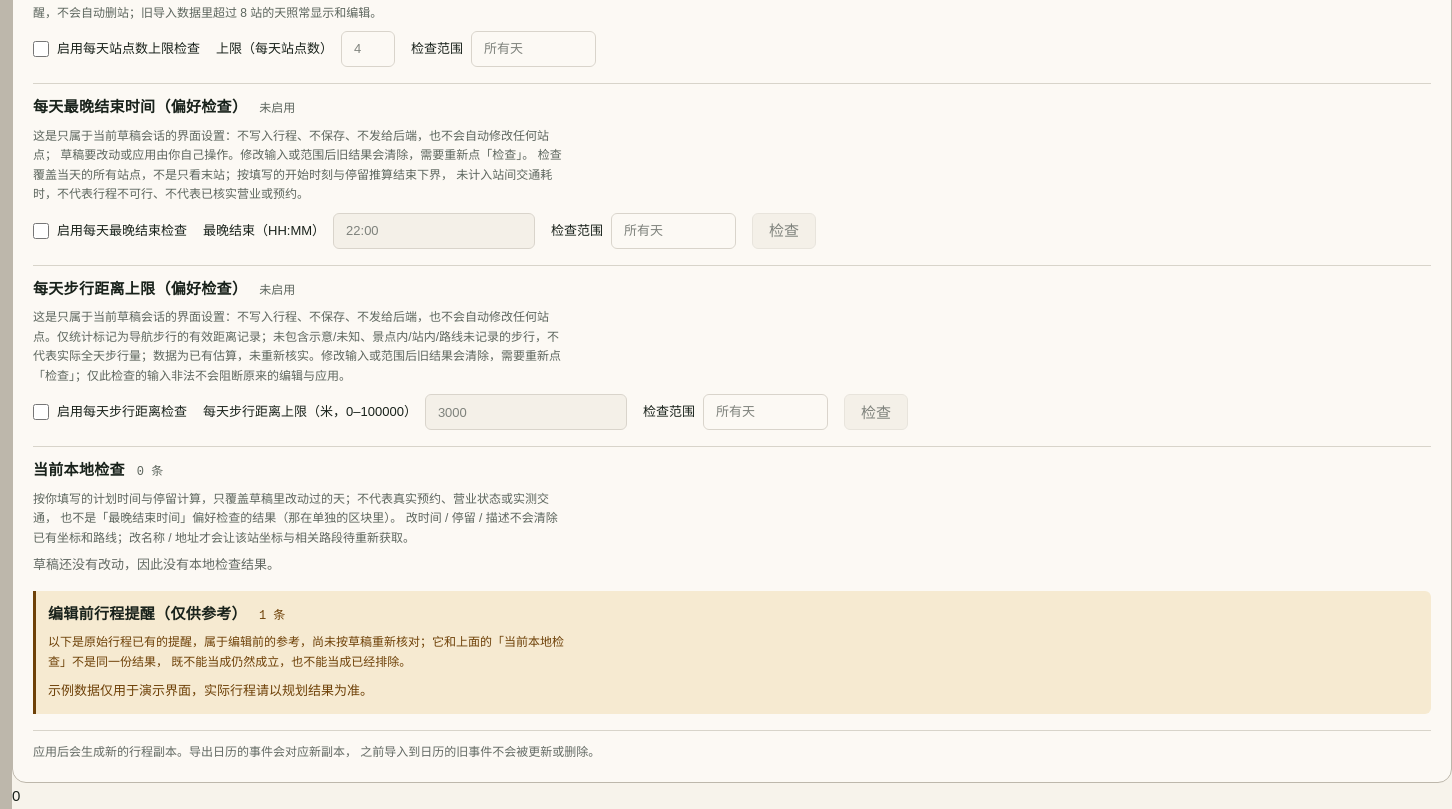
Test: 每天步行距离上限偏好：默认状态与显式检查 › 启用后显式检查：按夹具第 1 天 walking navigation 1100 米出「未发现超限」并含固定口径
(page scrolled)
Click the checkbox labelled "启用每天步行距离检查". click: click(41, 412)
box: [33, 404, 49, 420]
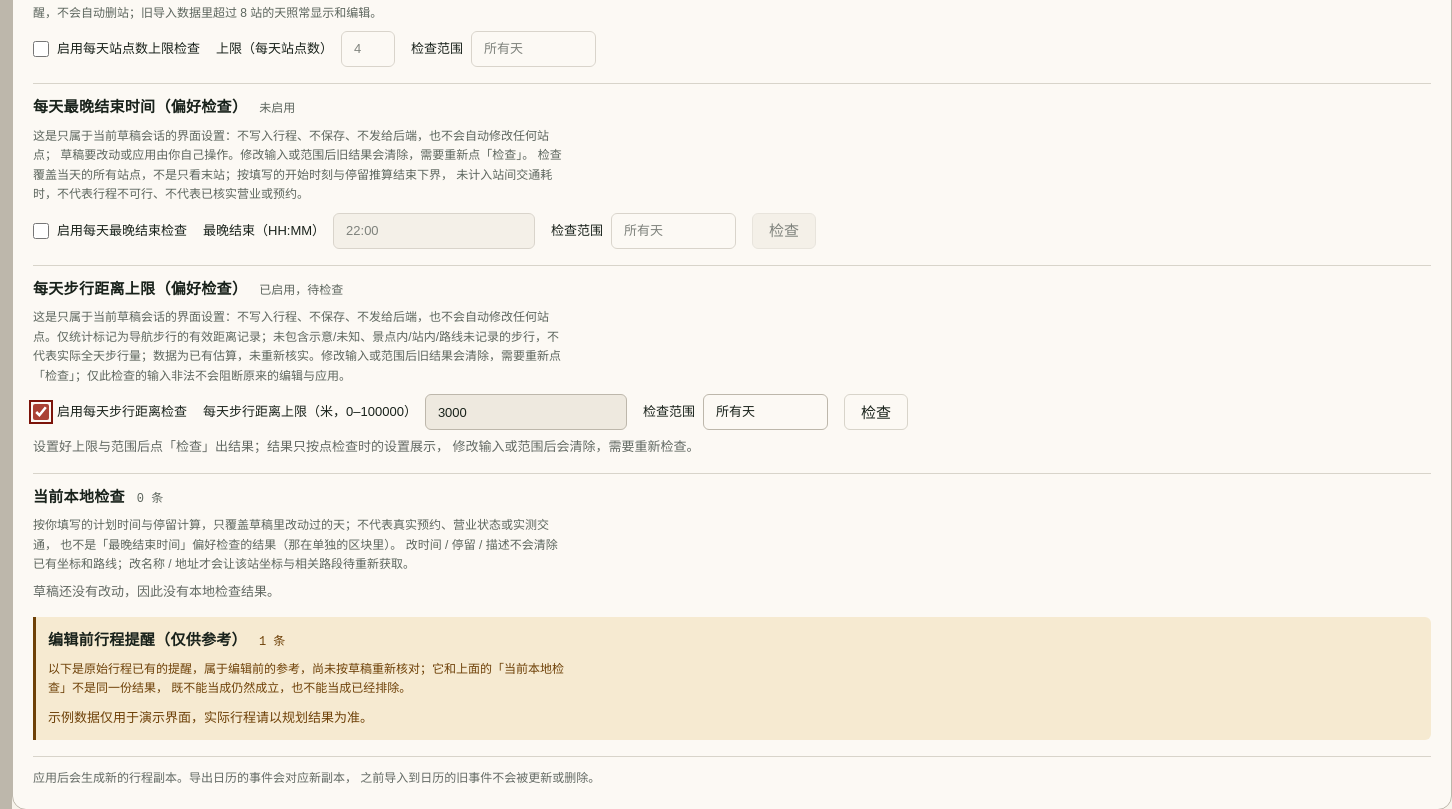
Click the button "检查" in the row of "100000". click: click(876, 412)
box: [844, 394, 908, 430]
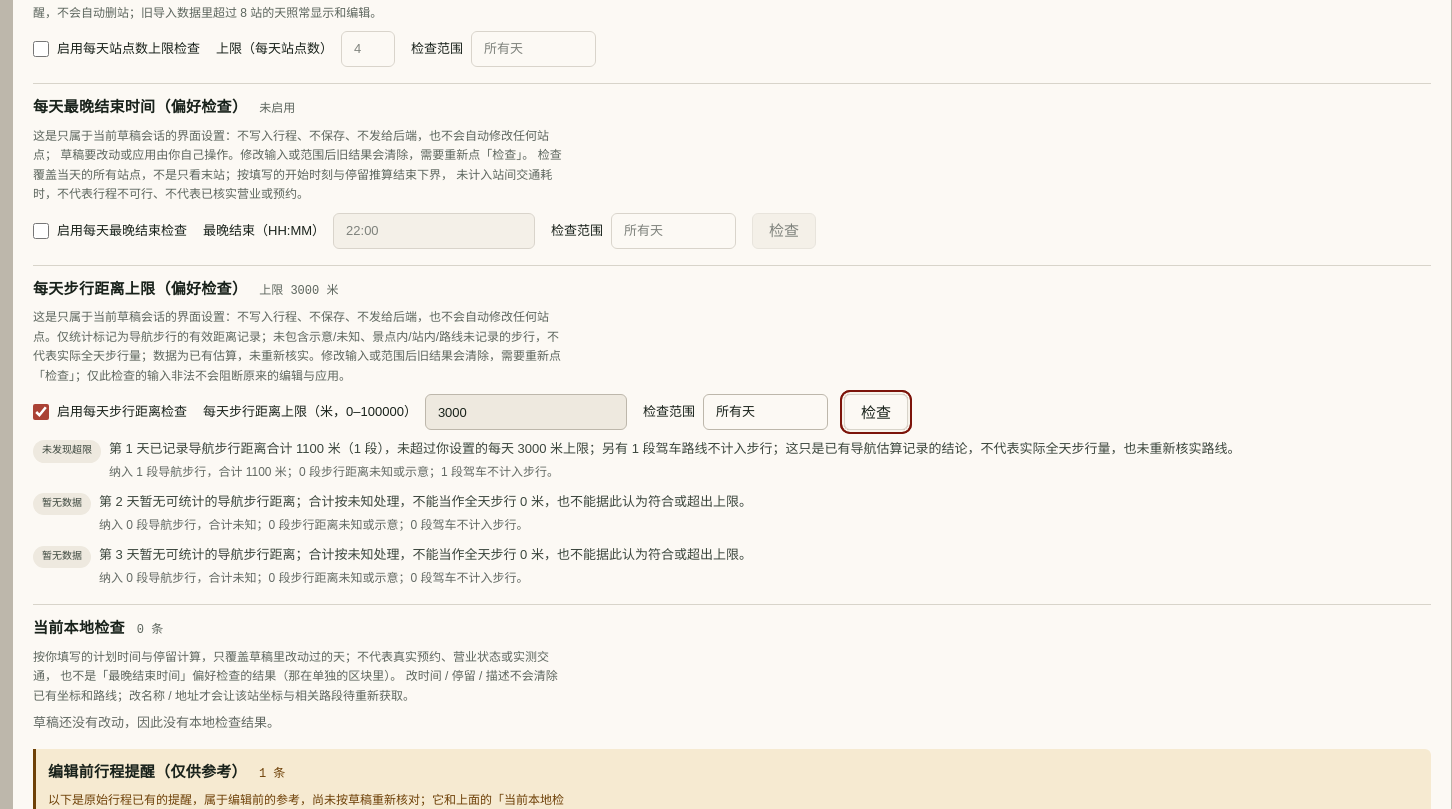
Now the text "上限 3000 米" is shown, box [259, 283, 338, 299]
Now the text "已记录导航步行距离合计 1100 米" is shown, box [109, 441, 1241, 456]
Now the text "未发现超限" is shown, box [33, 440, 101, 463]
